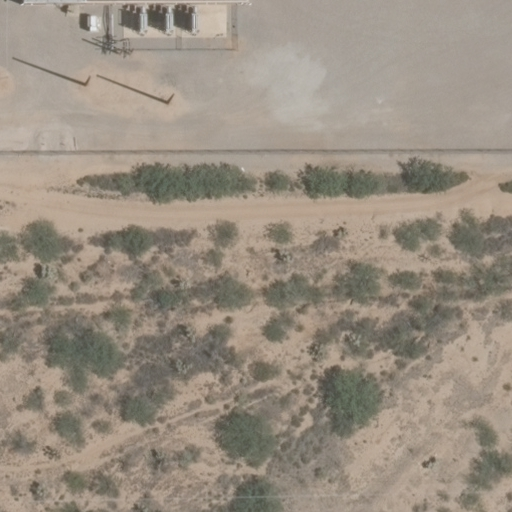DT: (164, 92, 177, 107), (82, 72, 93, 88)
